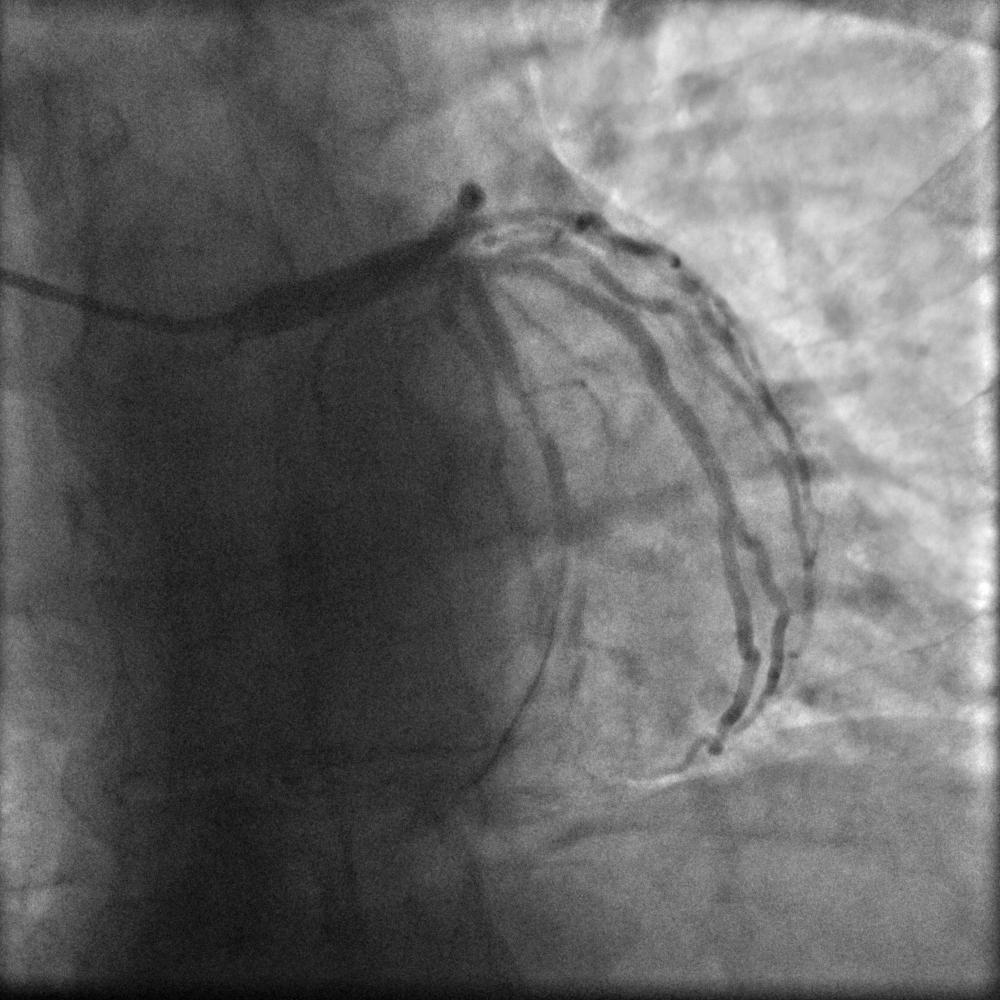Stenosis: (507, 362, 554, 445)
